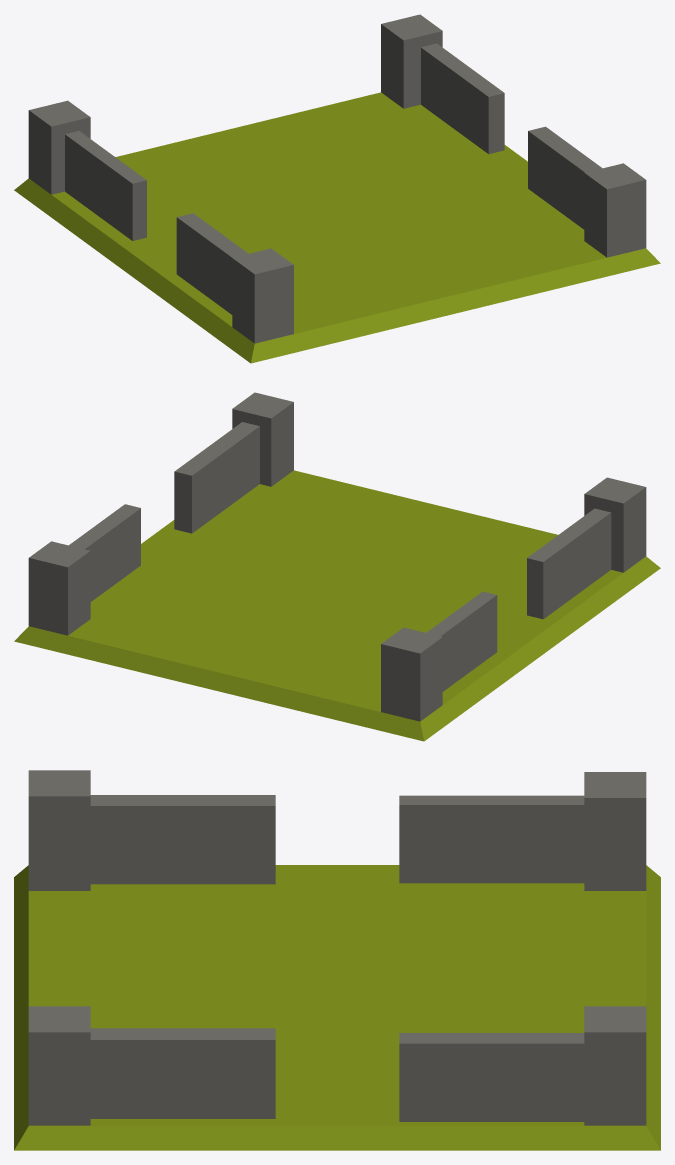
File: cemetery_straight.fbx
3 views of the same model, one above another, from view 1: azimuth 30°, elevation 25°; view 2: azimuth 150°, elevation 25°; view 3: azimuth 270°, elevation 25° (orthographic). The views are drawn at different scales.
Visible parts, largest first — view 1: polySurface3308; view 2: polySurface3308; view 3: polySurface3308.
Boxes of the visible parts, x1,y1,x2,y2 form: polySurface3308: (14, 14, 660, 363); polySurface3308: (14, 392, 660, 741); polySurface3308: (14, 770, 660, 1150).
Bounding box in the file's own units: 105 × 21.03 × 105.
Materials: 1 (1 with a texture image).
